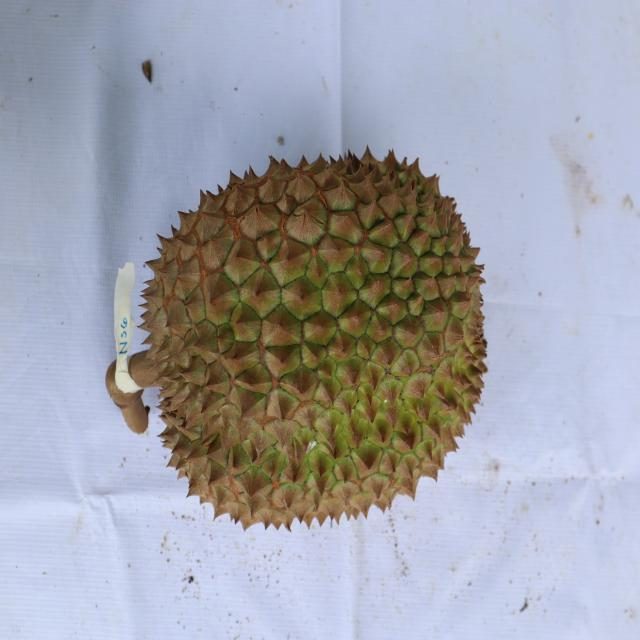mature: (140, 144, 490, 537)
